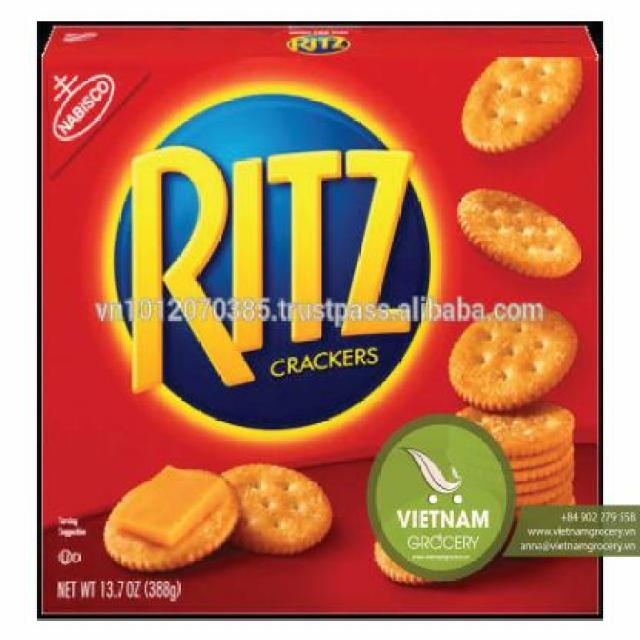Ritz cracker: (41, 25, 601, 618)
